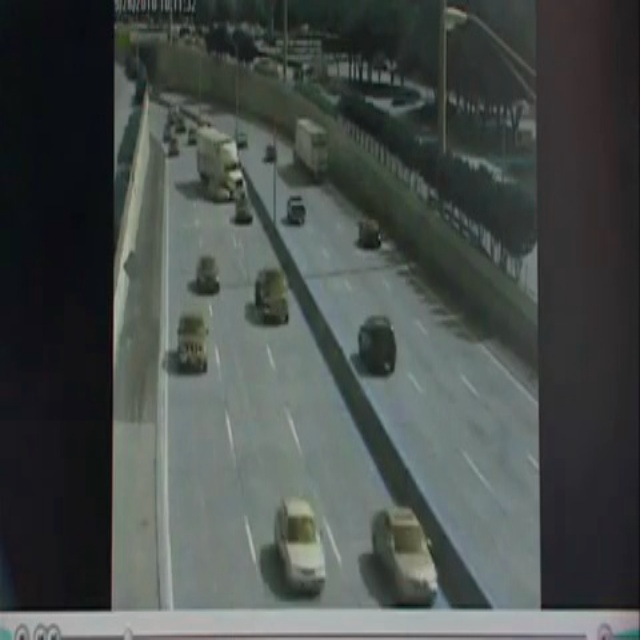acc: (188, 122, 258, 230)
